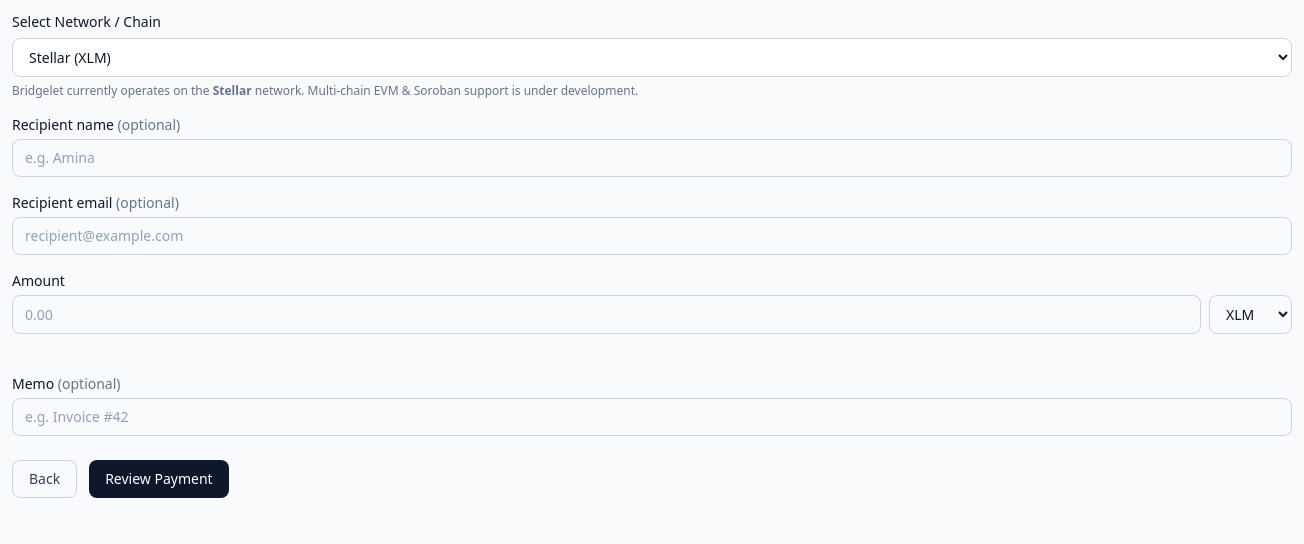
Scenario: DetailsStep › blocks submission when amount is 0 or negative
Type "0" into the number field labelled "Amount" at (606,314), box [12,295,1201,334]
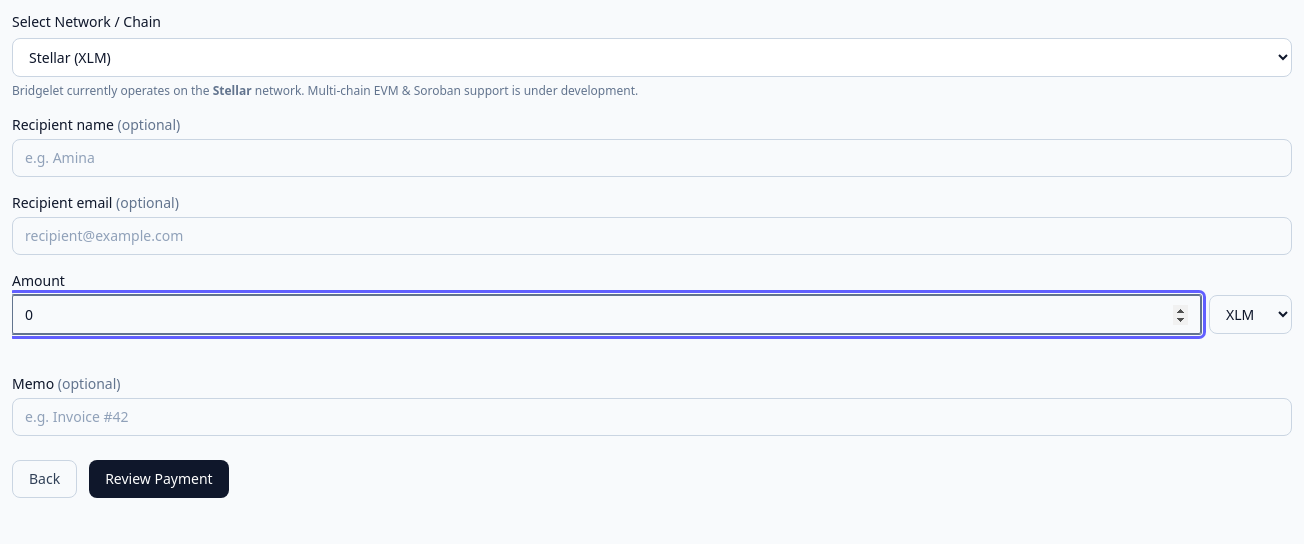
Click the button "Review Payment" at (159,479), box [89,460,229,498]
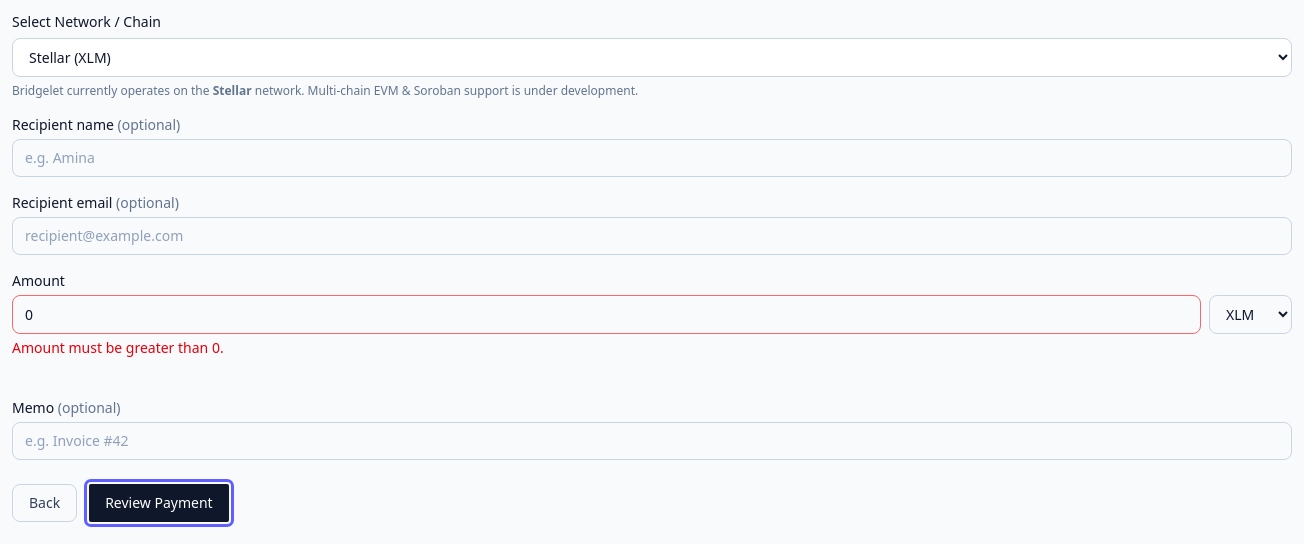
Check: the message shows "greater than 0", box [12,338,224,357]
